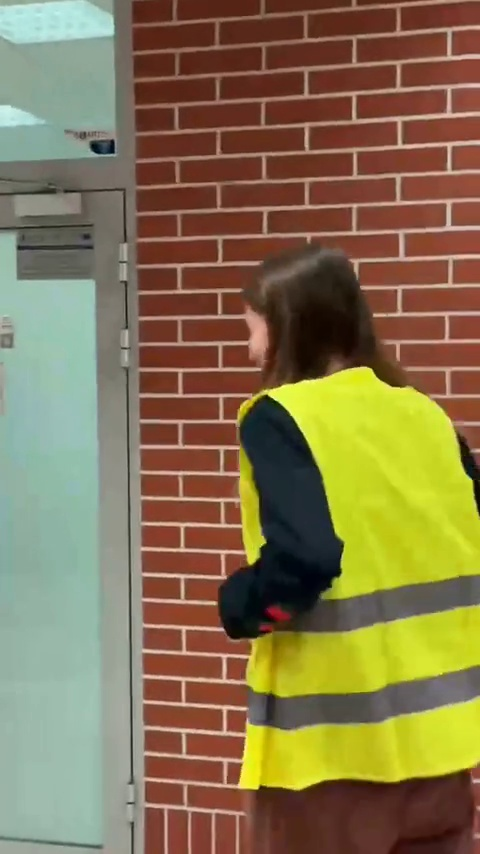vest: (209, 243, 478, 848)
